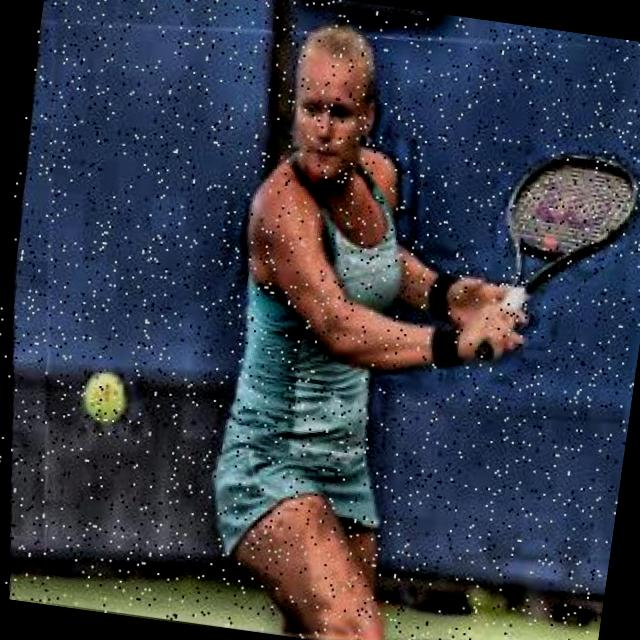Tennis Ball: (72, 366, 130, 436)
